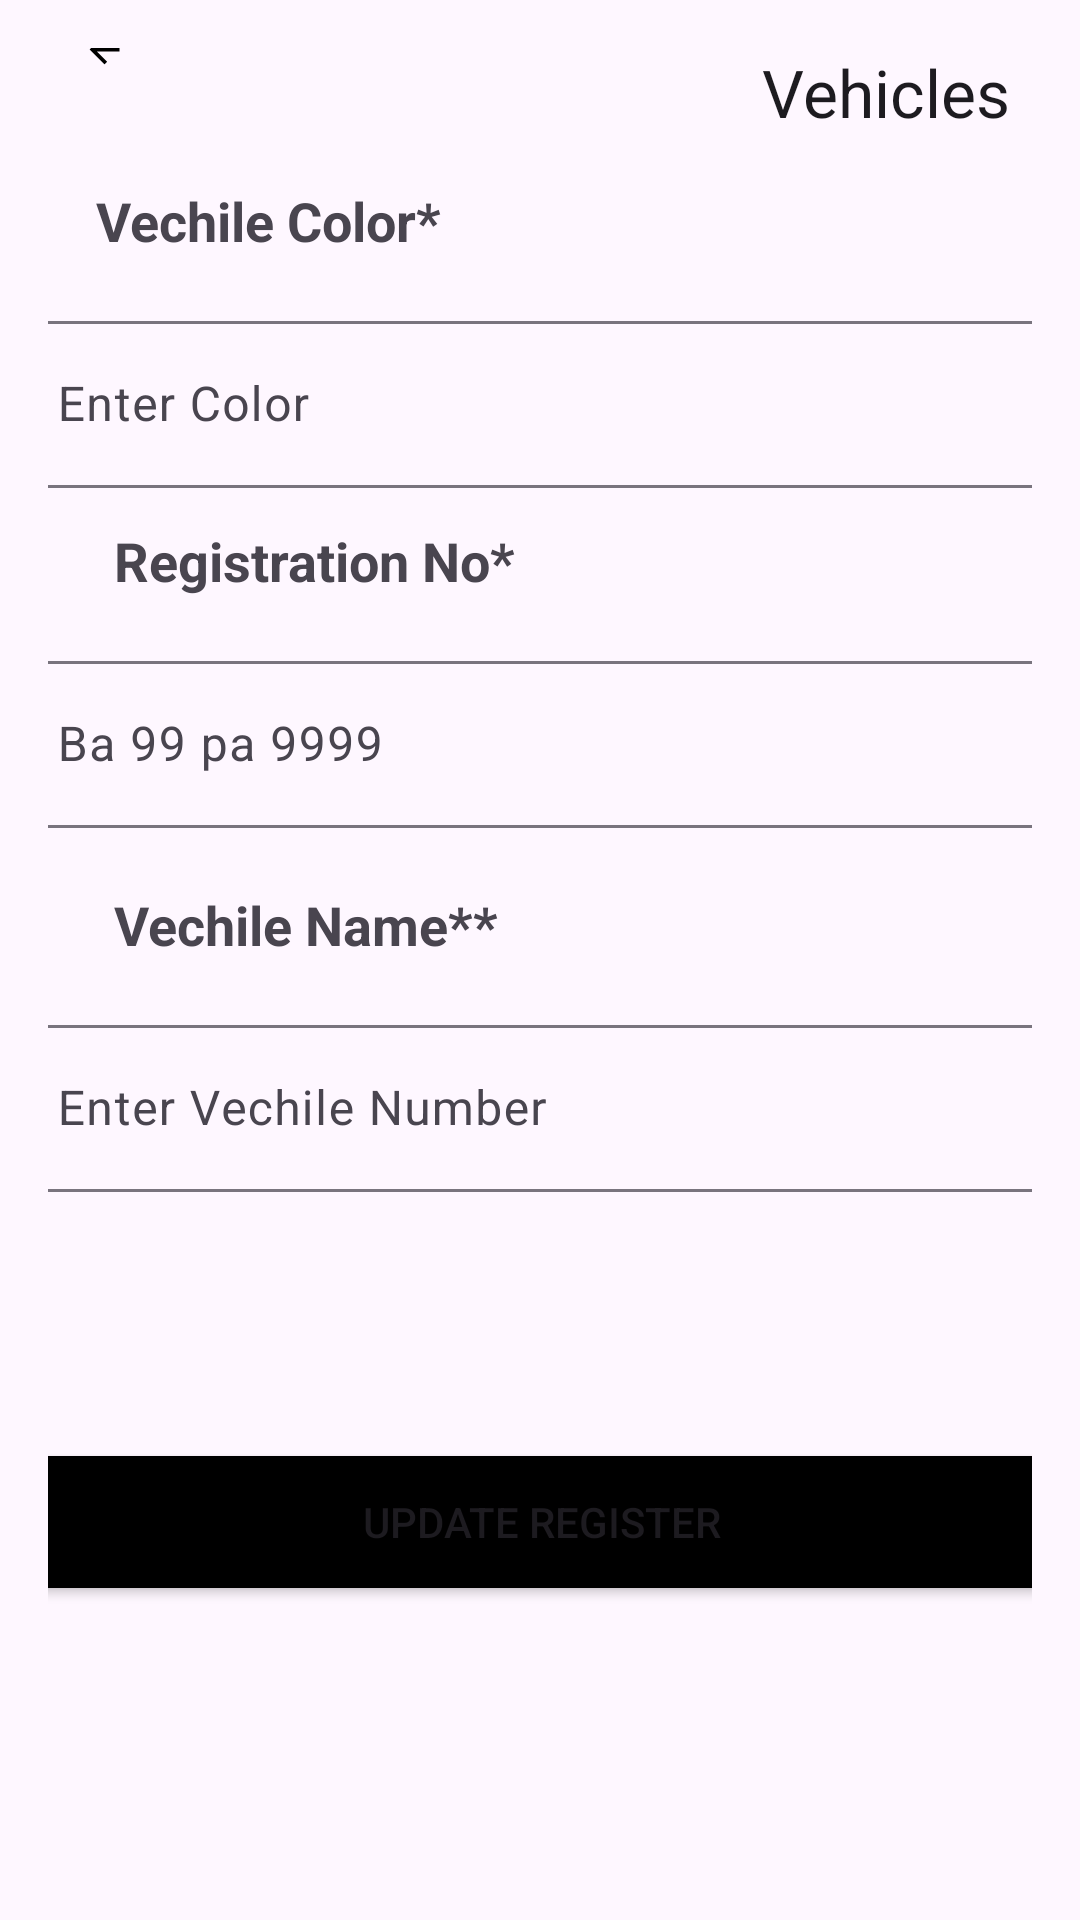

Icons on this 1080*1920 Android screen, each with the point to tap as (x,y):
back: (104,56)
